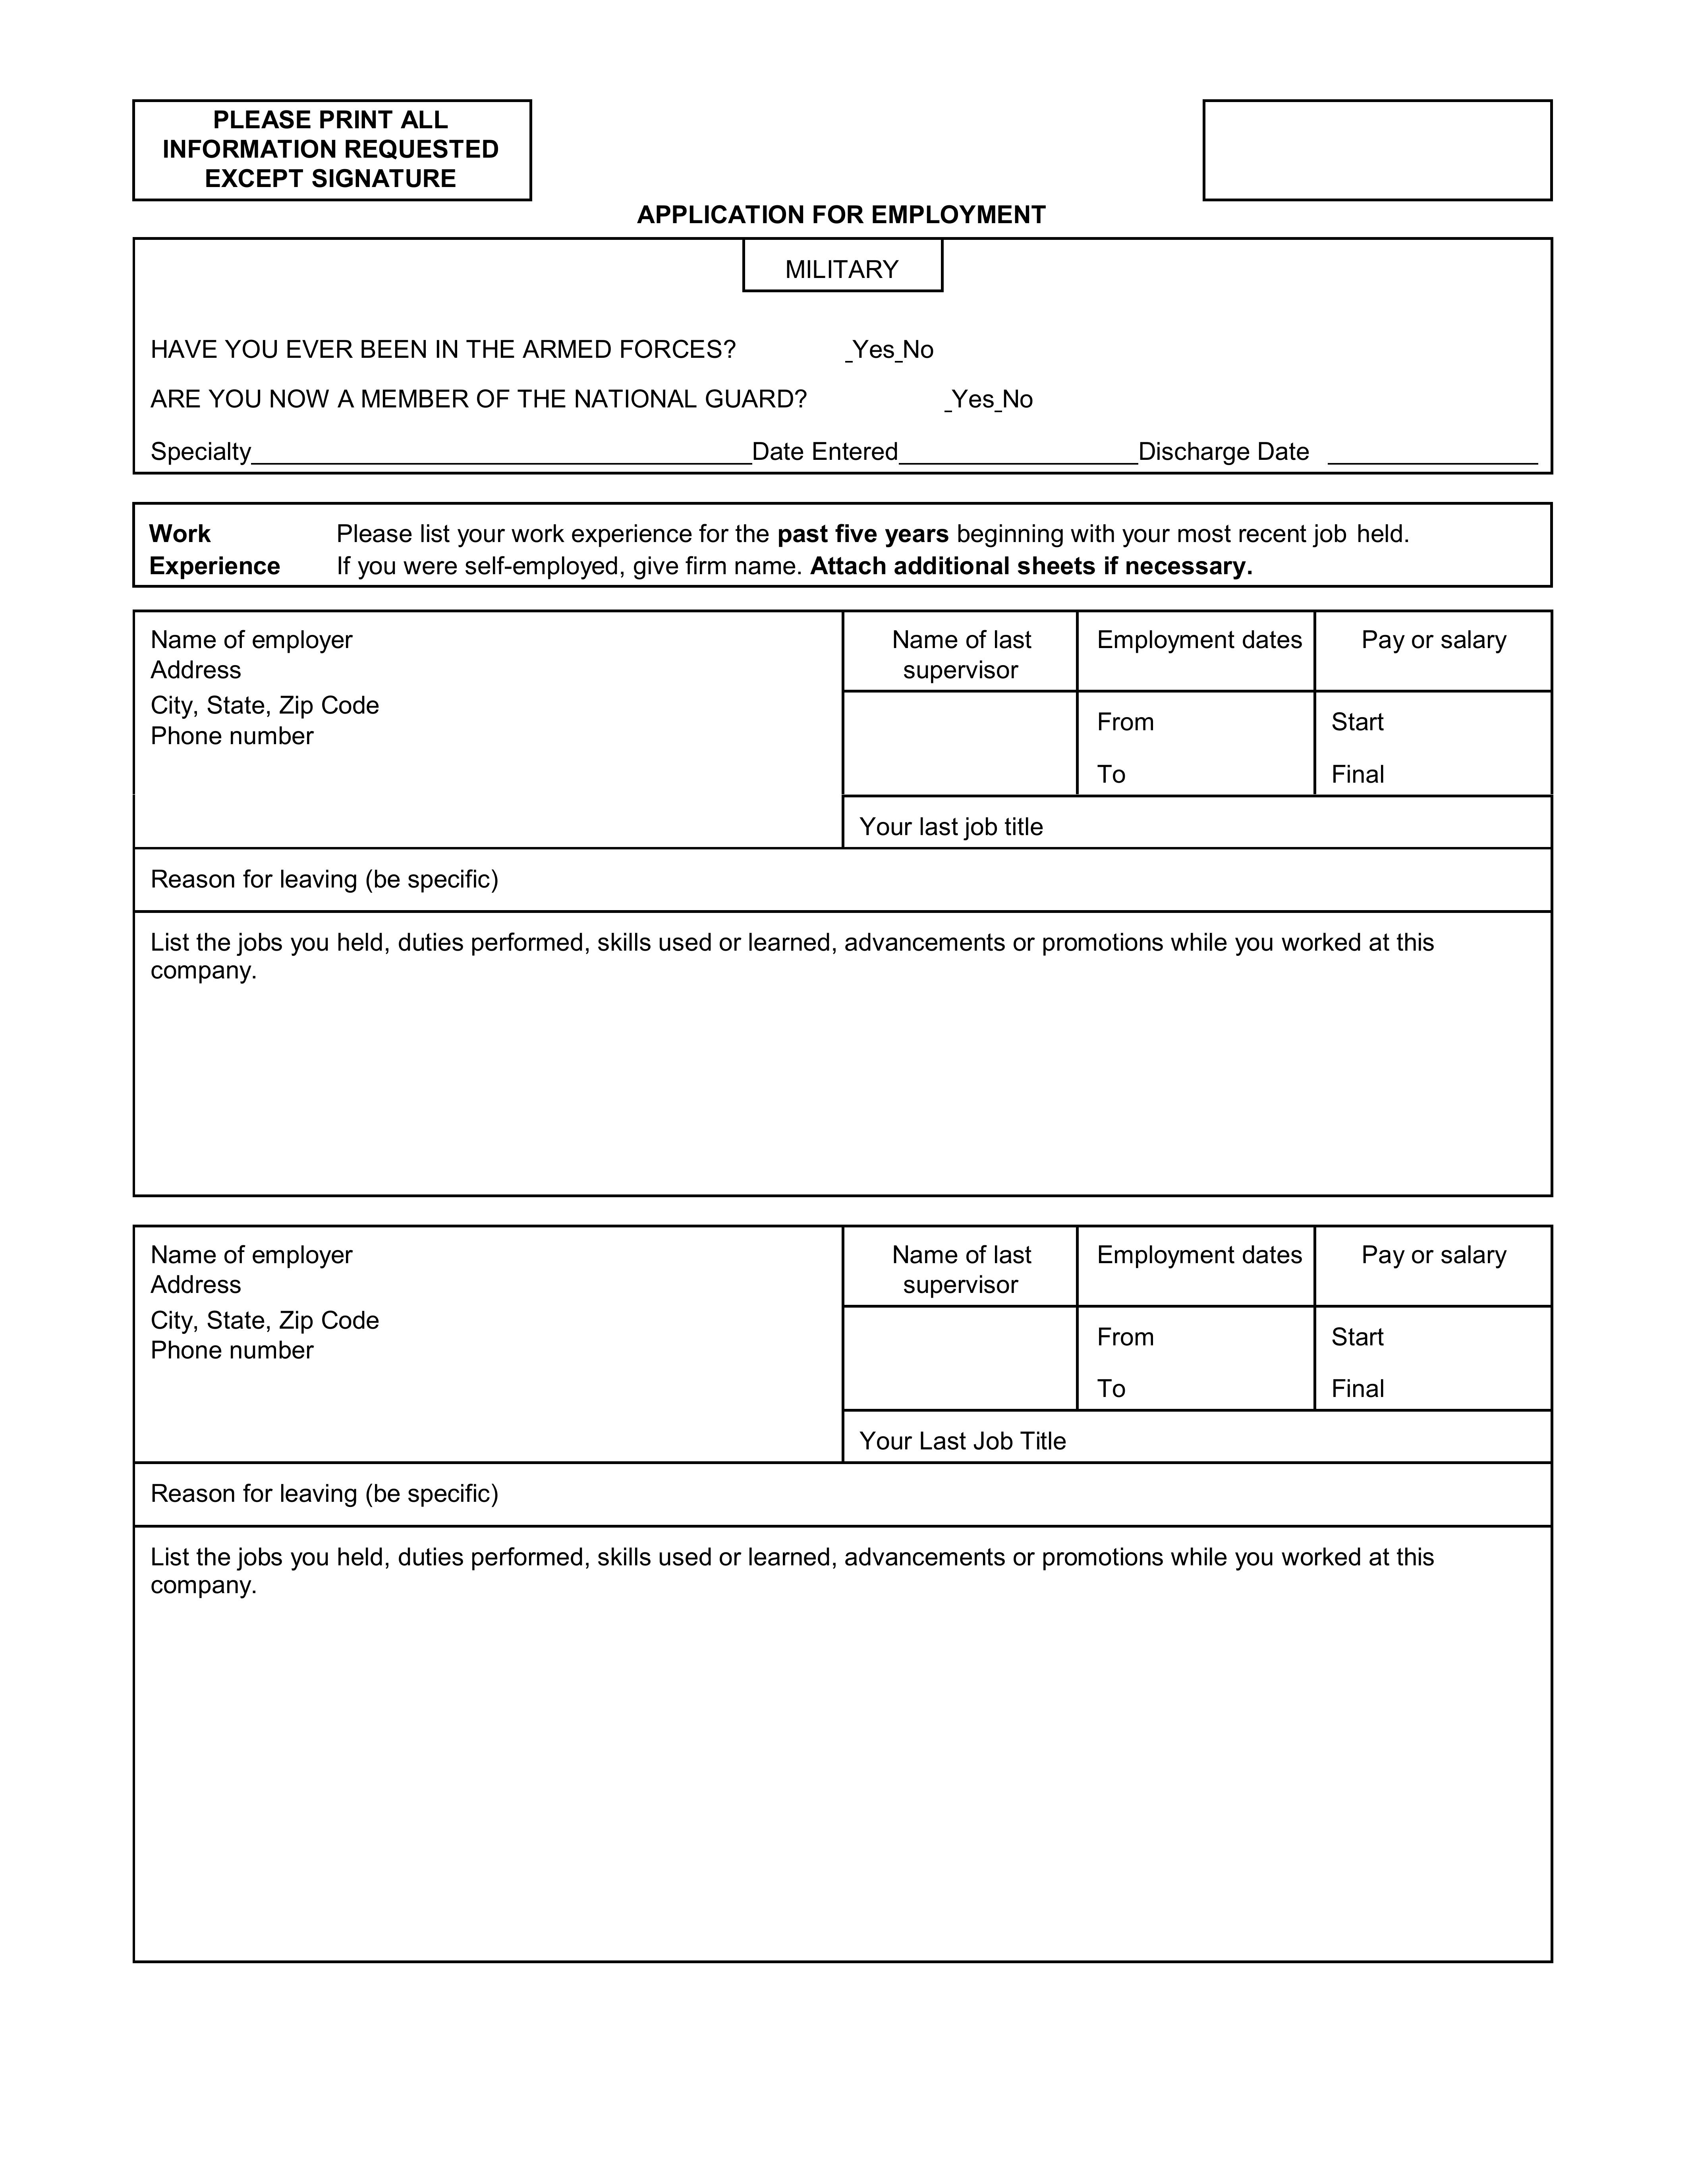table: (135, 1225, 1548, 1961), (137, 610, 1553, 1195), (133, 241, 1553, 475), (129, 503, 1550, 590)
